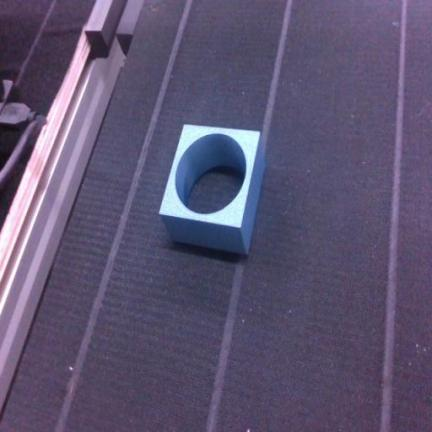hole: (160, 125, 264, 253)
